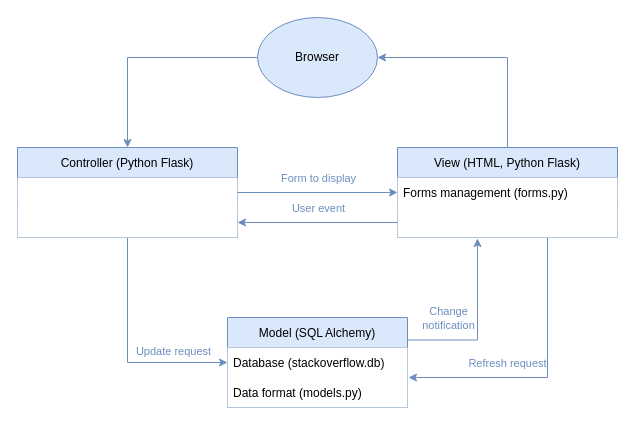
Some shapes in this 635 by 425 pixel diagram are drawn without their labels. The shapes that lost their labels are listed below. From the top down, each one's centre as x and y in pixels, then its label:
point 127,192: Data processing (routes.py)
point 127,222: HTTP request processing (routes.py)
point 507,222: Page generation (HTML templates)
